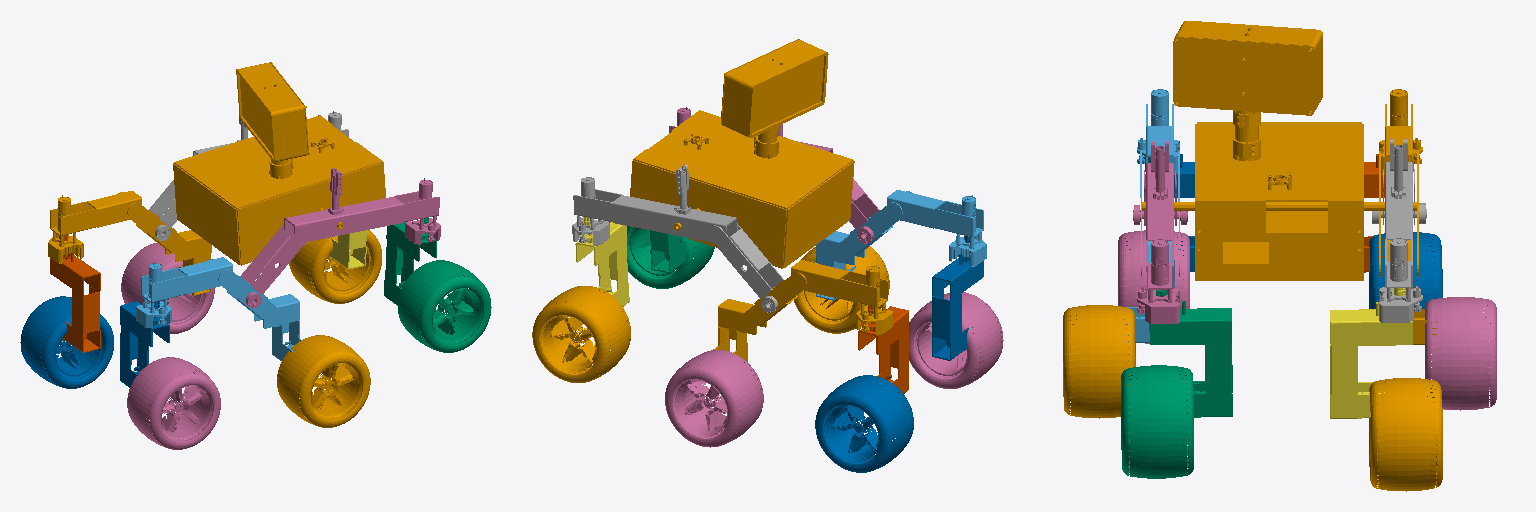
--- What the picture shows (computed from the rendered views, not written in the file) ---
3 views of the same robot in one strip: view 1: azimuth 30°, elevation 25°; view 2: azimuth 150°, elevation 25°; view 3: azimuth 270°, elevation 25° (orthographic).
Model rover_description with 26 links and 25 joints (14 continuous, 11 fixed), rooted at body, posed all joints at 0.
Links seen in each view (by area): view 1: body, rocker_left, wheel_lb, wheel_lm, wheel_lf, bogie_left, bogie_right, wheel_rf, wheel_rb, corner_rf, wheel_rm, corner_lf (+3 smaller); view 2: body, rocker_right, wheel_rm, wheel_rf, wheel_rb, bogie_right, bogie_left, wheel_lf, corner_lf, wheel_lb, wheel_lm, corner_rb (+3 smaller); view 3: body, wheel_rb, wheel_lb, wheel_rm, wheel_lm, rocker_left, rocker_right, corner_rb, corner_lb, wheel_lf, bogie_right, bogie_left (+3 smaller).
Boxes of the visible links, x1=… form: body: x1=173, y1=62, x2=385, y2=265; rocker_left: x1=241, y1=167, x2=440, y2=307; wheel_lb: x1=398, y1=260, x2=491, y2=352; wheel_lm: x1=277, y1=335, x2=370, y2=427; wheel_lf: x1=127, y1=357, x2=220, y2=449; bogie_left: x1=136, y1=257, x2=309, y2=365; bogie_right: x1=48, y1=191, x2=211, y2=295; wheel_rf: x1=20, y1=296, x2=113, y2=388; wheel_rb: x1=289, y1=230, x2=381, y2=303; corner_rf: x1=50, y1=235, x2=100, y2=352; wheel_rm: x1=121, y1=243, x2=214, y2=333; corner_lf: x1=120, y1=301, x2=169, y2=387; body: x1=630, y1=39, x2=854, y2=268; rocker_right: x1=572, y1=164, x2=783, y2=312; wheel_rm: x1=665, y1=350, x2=763, y2=447; wheel_rf: x1=815, y1=375, x2=913, y2=472; wheel_rb: x1=532, y1=286, x2=630, y2=382; bogie_right: x1=713, y1=260, x2=892, y2=361; bogie_left: x1=816, y1=190, x2=986, y2=300; wheel_lf: x1=909, y1=292, x2=1003, y2=388; corner_lf: x1=932, y1=236, x2=983, y2=360; wheel_lb: x1=627, y1=226, x2=714, y2=288; wheel_lm: x1=794, y1=246, x2=889, y2=333; corner_rb: x1=575, y1=217, x2=629, y2=306; body: x1=1142, y1=21, x2=1416, y2=280; wheel_rb: x1=1369, y1=378, x2=1442, y2=491; wheel_lb: x1=1121, y1=365, x2=1193, y2=478; wheel_rm: x1=1425, y1=297, x2=1496, y2=410; wheel_lm: x1=1063, y1=305, x2=1135, y2=418; rocker_left: x1=1133, y1=141, x2=1187, y2=323; rocker_right: x1=1372, y1=139, x2=1426, y2=322; corner_rb: x1=1330, y1=288, x2=1412, y2=418; corner_lb: x1=1149, y1=289, x2=1232, y2=417; wheel_lf: x1=1118, y1=230, x2=1189, y2=343; bogie_right: x1=1379, y1=89, x2=1437, y2=344; bogie_left: x1=1123, y1=89, x2=1179, y2=342.
Size in the robot's own frame: 0.7507 by 0.6001 by 0.6125 metres.
Meshes: 15 distinct files referenced, 15 mesh visuals loaded (15 Collada DAE).

URDF robot description (rover_description):
<?xml version="1.0" ?>
<robot name="rover_description">
<!-- xmlns:xacro="http://ros.org/wiki/xacro" -->
  <!-- All joints except wheels should be revolute eventually with limits put in, instead
  of continous joints -->

  <!-- Body -->
  <link name="body">
    <inertial>
      <mass value="2.90211432884294"/>
      <origin rpy="0  0  0" xyz="0  0  0"/>
      <inertia ixx="0.0449848823959673" ixy="0.00479068637492494" ixz="0.00169663977998625" iyy="0.036095517853809" iyz="0.00496816410158067" izz="0.0468326609946258"/>
    </inertial>
    <collision name="body_collision">
      <origin rpy="1.57079 -0.0741   0" xyz="0.06131  0.25841 -0.36404"/>
      <geometry>
        <mesh filename="package://rover_description/meshes/body.STL" scale="1 1 1"/>
      </geometry>
    </collision>
    <visual name="body_visual">
      <origin rpy="1.57079 -0.0741   0" xyz="0.06131  0.25841 -0.36404"/>
      <geometry>
        <mesh filename="package://rover_description/meshes/body.dae" scale="1 1 1"/>
      </geometry>
    </visual>
  </link>
  <gazebo reference="body">
  <!-- contact sensor -->
    <sensor type="contact" name="body_contact_sensor">
      <update_rate>30.0</update_rate>
      <always_on>1</always_on>
      <contact>
        <collision>body_collision_collision</collision>
        <topic>/bumper_contact</topic>
      </contact>
      <plugin name="gazebo_ros_bumper_controller" filename="libgazebo_ros_bumper.so">
          <alwaysOn>true</alwaysOn>
          <updateRate>3.0</updateRate>
          <bumperTopicName>/robot_bumper</bumperTopicName>
          <frameName>body</frameName>
      </plugin>
    </sensor>
  </gazebo>

  <!-- LIDAR -->
  <link name="base_scan">
    <!--<visual>
      <origin xyz="-.075 0.03 -.075" rpy="0 -0.275 0"/>
      <geometry>
        <mesh filename="package://rover_description/meshes/lds.stl" scale="0.001 0.001 0.001"/>
      </geometry>
      <material name="dark"/>
    </visual>
    <collision>
      <origin xyz="0.05 0.03 -0.5125" rpy="0 0 0"/>
      <geometry>
        <cylinder length="0.0315" radius="0.055"/>
      </geometry>
    </collision>
    <inertial>
      <mass value="0.114" />
      <origin xyz="0 0 0" />
      <inertia ixx="0.001" ixy="0.0" ixz="0.0"
               iyy="0.001" iyz="0.0"
               izz="0.001" />
    </inertial>-->
  </link>
  <joint name="scan_joint" type="fixed">
    <parent link="body"/>
    <child link="base_scan"/>
    <origin xyz="-.075 0.03 -.075" rpy="0 -0.275 0"/>
  </joint>
  <gazebo reference="base_scan">
    <sensor type="ray" name="lds_lfcd_sensor">
      <pose>0 0 0 0 0 0</pose>
      <visualize>false</visualize>
      <update_rate>5</update_rate>
      <ray>
        <scan>
          <horizontal>
            <samples>360</samples>
            <resolution>1</resolution>
            <min_angle>-90</min_angle>
            <max_angle>90</max_angle>
          </horizontal>
        </scan>
        <range>
          <min>0.45</min>
          <max>4.5</max>
          <resolution>0.015</resolution>
        </range>
        <noise>
          <type>gaussian</type>
          <mean>0.0</mean>
          <stddev>0.01</stddev>
        </noise>
      </ray>
      <plugin name="gazebo_ros_lds_lfcd_controller" filename="libgazebo_ros_laser.so">
        <topicName>scan</topicName>
        <frameName>base_scan</frameName>
      </plugin>
    </sensor>
  </gazebo>

  <!-- Depth Camera -->
  <link name="depthcamera_link">
    <collision>
      <origin xyz="-0.01 0 0" rpy="0 0 0"/>
      <geometry>
        <box size="0.01 0.01 0.01"/>
      </geometry>
    </collision>
  </link>
  <joint name="depthcamera_joint" type="fixed">
    <axis xyz="0 0 0" />
    <origin xyz="-0.1 0 0" rpy="0 0 3.14"/>
    <parent link="body"/>
    <child link="depthcamera_link"/>
  </joint>
  <gazebo reference="depthcamera_link">
    <sensor name="depthcamera" type="depth">
      <update_rate>10.0</update_rate>
      <camera>
        <horizontal_fov>1.047198</horizontal_fov>
        <image>
          <width>640</width>
          <height>480</height>
          <format>R8G8B8</format>
        </image>
        <clip>
          <near>0.05</near>
          <far>3</far>
        </clip>
      </camera>
      <plugin name="depthcamera_controller" filename="libgazebo_ros_openni_kinect.so">
        <baseline>0.2</baseline>
        <alwaysOn>true</alwaysOn>
        <updateRate>1.0</updateRate>
        <cameraName>depthcamera</cameraName>
        <imageTopicName>/depthcamera/depth/image_raw</imageTopicName>
        <cameraInfoTopicName>/depthcamera/depth/camera_info</cameraInfoTopicName>
        <depthImageTopicName>/depthcamera/depth/image_raw</depthImageTopicName>
        <depthImageInfoTopicName>/depthcamera/depth/camera_info</depthImageInfoTopicName>
        <pointCloudTopicName>/depthcamera/depth/points</pointCloudTopicName>
        <frameName>pointcloud_link</frameName>
        <pointCloudCutoff>0.5</pointCloudCutoff>
        <pointCloudCutoffMax>3.0</pointCloudCutoffMax>
        <distortionK1>0.00000001</distortionK1>
        <distortionK2>0.00000001</distortionK2>
        <distortionK3>0.00000001</distortionK3>
        <distortionT1>0.00000001</distortionT1>
        <distortionT2>0.00000001</distortionT2>
        <CxPrime>0</CxPrime>
        <Cx>0</Cx>
        <Cy>0</Cy>
        <focalLength>0</focalLength>
        <hackBaseline>0</hackBaseline>
      </plugin>
    </sensor>
  </gazebo>

  <!-- Point Cloud -->
  <link name="pointcloud_link"/>
  <joint name="pointcloud_joint" type="fixed">
    <axis xyz="0 0 0" />
    <origin xyz="-0.1 0 0" rpy="-1.58 0 -1.58"/>
    <parent link="depthcamera_link"/>
    <child link="pointcloud_link"/>
  </joint>

  <!-- Camera -->
  <link name="camera_link">
    <collision>
      <origin xyz="-0.01 0 0" rpy="0 0 3.14"/>
      <geometry>
        <box size="0.01 0.01 0.01"/>
      </geometry>
    </collision>
  </link>
  <joint name="camera_joint" type="fixed">
    <axis xyz="0 1 0" />
    <origin xyz="-0.1 0 0" rpy="0 0 3.14"/>
    <parent link="body"/>
    <child link="camera_link"/>
  </joint>
  <gazebo reference="camera_link">
    <sensor type="camera" name="camera1">
      <update_rate>30.0</update_rate>
      <camera name="head">
        <horizontal_fov>1.30</horizontal_fov>
        <image>
          <width>360</width>
          <height>240</height>
          <format>R8G8B8</format>
        </image>
        <clip>
          <near>0.02</near>
          <far>300</far>
        </clip>
        <noise>
          <type>gaussian</type>
          <!-- Noise is sampled independently per pixel on each frame.
               That pixel's noise value is added to each of its color
               channels, which at that point lie in the range [0,1]. -->
          <mean>0.0</mean>
          <stddev>0.007</stddev>
        </noise>
      </camera>
      <plugin name="camera_controller" filename="libgazebo_ros_camera.so">
        <alwaysOn>true</alwaysOn>
        <updateRate>0.0</updateRate>
        <cameraName>camera</cameraName>
        <imageTopicName>image_raw</imageTopicName>
        <cameraInfoTopicName>camera_info</cameraInfoTopicName>
        <frameName>camera_link</frameName>
        <hackBaseline>0.07</hackBaseline>
        <distortionK1>0.0</distortionK1>
        <distortionK2>0.0</distortionK2>
        <distortionK3>0.0</distortionK3>
        <distortionT1>0.0</distortionT1>
        <distortionT2>0.0</distortionT2>
      </plugin>
    </sensor>
  </gazebo>

  <!-- IMU -->
  <link name="imu_link"/>
  <joint name="imu_joint" type="fixed">
    <parent link="body"/>
    <child link="imu_link"/>
    <origin xyz="-0.032 0 0.068" rpy="0 0 3.14"/>
  </joint>
  <gazebo reference="imu_link">
    <sensor type="imu" name="imu">
      <always_on>true</always_on>
    </sensor>
  </gazebo>

  <!-- Body - Rocker Joints  -->
  <!-- Both of the joints from body to the rocker are currently locked, to be replaced
  eventually with accel position controlled revolute joints -->
  <link name="rocker_left">
    <inertial>
      <mass value="0.537822360381466"/>
      <origin rpy="0  0  0" xyz="0  0  0"/>
      <inertia ixx="0.000926946219362228" ixy="0.000154689420267511" ixz="1.88012800941391E-05" iyy="0.0101156034157955" iyz="5.30969443231385E-06" izz="0.0107753595914698"/>
    </inertial>
    <collision name="rocker_left_collision">
      <origin rpy="-3.13761 -1.57079  3.14159" xyz="0.42337 -0.05944  0.05707"/>
      <geometry>
        <mesh filename="package://rover_description/meshes/rocker_left.STL" scale="1 1 1"/>
      </geometry>
    </collision>
    <visual name="rocker_left_visual">
      <origin rpy="-3.13761 -1.57079  3.14159" xyz="0.42337 -0.05944  0.05707"/>
      <geometry>
        <mesh filename="package://rover_description/meshes/rocker_left.dae" scale="1 1 1"/>
      </geometry>
    </visual>
  </link>
  <joint name="body_rocker_left" type="continuous">
    <parent link="body"/>
    <child link="rocker_left"/>
    <origin rpy="1.49669  0 1.57079" xyz="0 -0.16496 -0.30899"/>
    <axis xyz="0  1  0"/>
    <limit effort="1.0" lower="0.0" upper="0.0" velocity="0.0"/>
  </joint>
  <transmission name="tran_body_rocker_left">
    <type>transmission_interface/SimpleTransmission</type>
    <joint name="body_rocker_left">
      <hardwareInterface>hardware_interface/EffortJointInterface</hardwareInterface>
    </joint>
    <actuator name="motor_body_rocker_left">
      <hardwareInterface>hardware_interface/EffortJointInterface</hardwareInterface>
      <mechanicalReduction>1</mechanicalReduction>
    </actuator>
  </transmission>
  <gazebo reference="rocker_left">
  <!-- contact sensor -->
    <sensor type="contact" name="rocker_left_contact_sensor">
      <update_rate>30.0</update_rate>
      <always_on>1</always_on>
      <contact>
        <collision>rocker_left_collision_collision</collision>
        <topic>/bumper_contact</topic>
      </contact>
      <plugin name="gazebo_ros_bumper_controller" filename="libgazebo_ros_bumper.so">
          <alwaysOn>true</alwaysOn>
          <updateRate>3.0</updateRate>
          <bumperTopicName>/robot_bumper</bumperTopicName>
          <frameName>rocker_left</frameName>
      </plugin>
    </sensor>
  </gazebo>

  <link name="rocker_right">
    <inertial>
      <mass value="0.526238554618689"/>
      <origin rpy="0  0  0" xyz="0  0  0"/>
      <inertia ixx="0.000919588633616726" ixy="0.000157243014711518" ixz="1.51548266970927E-05" iyy="0.00982887921832842" iyz="5.68327172250142E-06" izz="0.01048548744125"/>
    </inertial>
    <collision name="rocker_right_collision">
      <origin rpy="0  0  0" xyz="0.05707 -0.05944 -0.0935"/>
      <geometry>
        <mesh filename="package://rover_description/meshes/rocker_right.STL" scale="1 1 1"/>
      </geometry>
    </collision>
    <visual name="rocker_right_visual">
      <origin rpy="0  0  0" xyz="0.05707 -0.05944 -0.0935"/>
      <geometry>
        <mesh filename="package://rover_description/meshes/rocker_right.dae" scale="1 1 1"/>
      </geometry>
    </visual>
  </link>
  <joint name="body_rocker_right" type="continuous">
    <parent link="body"/>
    <child link="rocker_right"/>
    <origin rpy="1.57079 -0.0741   0" xyz="0       0.1649  -0.30899"/>
    <axis xyz="0  0  -1"/>
    <limit effort="1.0" lower="0.0" upper="0.0" velocity="0.0"/>
  </joint>
  <transmission name="tran_body_rocker_right">
  <type>transmission_interface/SimpleTransmission</type>
    <joint name="body_rocker_right">
      <hardwareInterface>hardware_interface/EffortJointInterface</hardwareInterface>
    </joint>
    <actuator name="motor_body_rocker_right">
      <hardwareInterface>hardware_interface/EffortJointInterface</hardwareInterface>
      <mechanicalReduction>1</mechanicalReduction>
    </actuator>
  </transmission>
  <gazebo reference="rocker_right">
  <!-- contact sensor -->
    <sensor type="contact" name="rocker_right_contact_sensor">
      <update_rate>30.0</update_rate>
      <always_on>1</always_on>
      <contact>
        <collision>rocker_right_collision_collision</collision>
        <topic>/bumper_contact</topic>
      </contact>
      <plugin name="gazebo_ros_bumper_controller" filename="libgazebo_ros_bumper.so">
          <alwaysOn>true</alwaysOn>
          <updateRate>3.0</updateRate>
          <bumperTopicName>/robot_bumper</bumperTopicName>
          <frameName>rocker_right</frameName>
      </plugin>
    </sensor>
  </gazebo>

  <!-- Rocker - Bogie Joints -->
  <link name="bogie_right">
    <inertial>
      <mass value="0.621260139018214"/>
      <origin rpy="0  0  0" xyz="0  0  0"/>
      <inertia ixx="0.00453008397919647" ixy="0.00490350467843443" ixz="0.000635833755568301" iyy="0.00836086403351998" iyz="0.000607789161715965" izz="0.0121912838568506"/>
    </inertial>
    <collision name="bogie_right_collision">
      <origin rpy="0  0  0" xyz="0.25249  0.02578 -0.0854"/>
      <geometry>
        <mesh filename="package://rover_description/meshes/bogie_right.STL" scale="1 1 1"/>
      </geometry>
    </collision>
    <visual name="bogie_right_visual">
      <origin rpy="0  0  0" xyz="0.25249  0.02578 -0.0854"/>
      <geometry>
        <mesh filename="package://rover_description/meshes/bogie_right.dae" scale="1 1 1"/>
      </geometry>
    </visual>
  </link>
  <joint name="rocker_right_bogie_right" type="continuous">
    <parent link="rocker_right"/>
    <child link="bogie_right"/>
    <origin rpy="0  0  0" xyz="-0.19542 -0.08523 -0.0081"/>
    <axis xyz="0  0  1"/>
    <limit effort="1.0" lower="0.0" upper="0.0" velocity="0.0"/>
  </joint>
  <transmission name="tran_rocker_right_bogie_right">
  <type>transmission_interface/SimpleTransmission</type>
    <joint name="rocker_right_bogie_right">
      <hardwareInterface>hardware_interface/EffortJointInterface</hardwareInterface>
    </joint>
    <actuator name="motor_rocker_right_bogie_right">
      <hardwareInterface>hardware_interface/EffortJointInterface</hardwareInterface>
      <mechanicalReduction>1</mechanicalReduction>
    </actuator>
  </transmission>
  <gazebo reference="bogie_right">
  <!-- contact sensor -->
    <sensor type="contact" name="bogie_right_contact_sensor">
      <update_rate>30.0</update_rate>
      <always_on>1</always_on>
      <contact>
        <collision>bogie_right_collision_collision</collision>
        <topic>/bumper_contact</topic>
      </contact>
      <plugin name="gazebo_ros_bumper_controller" filename="libgazebo_ros_bumper.so">
          <alwaysOn>true</alwaysOn>
          <updateRate>3.0</updateRate>
          <bumperTopicName>/robot_bumper</bumperTopicName>
          <frameName>bogie_right</frameName>
      </plugin>
    </sensor>
  </gazebo>

  <link name="bogie_left">
    <inertial>
      <mass value="0.621260123725714"/>
      <origin rpy="0  0  0" xyz="0  0  0"/>
      <inertia ixx="0.00448582964435196" ixy="0.00477854316506496" ixz="0.000607059717079686" iyy="0.00810724571548189" iyz="0.000593845967857872" izz="0.0118998802046071"/>
    </inertial>
    <collision name="bogie_left_collision">
      <origin rpy="0  0  0" xyz="0.25249  0.02578 -0.43123"/>
      <geometry>
        <mesh filename="package://rover_description/meshes/bogie_left.STL" scale="1 1 1"/>
      </geometry>
    </collision>
    <visual name="bogie_left_visual">
      <origin rpy="0  0  0" xyz="0.25249  0.02578 -0.43123"/>
      <geometry>
        <mesh filename="package://rover_description/meshes/bogie_left.dae" scale="1 1 1"/>
      </geometry>
    </visual>
  </link>
  <joint name="rocker_left_bogie_left" type="continuous">
    <parent link="rocker_left"/>
    <child link="bogie_left"/>
    <origin rpy="-3.13761 -1.57079  3.14159" xyz="-0.00786 -0.08523 -0.19542"/>
    <axis xyz="0  0  1"/>
    <limit effort="1.0" lower="0.0" upper="0.0" velocity="0.0"/>
  </joint>
  <transmission name="tran_rocker_left_bogie_left">
  <type>transmission_interface/SimpleTransmission</type>
    <joint name="rocker_left_bogie_left">
      <hardwareInterface>hardware_interface/EffortJointInterface</hardwareInterface>
    </joint>
    <actuator name="motor_rocker_left_bogie_left">
      <hardwareInterface>hardware_interface/EffortJointInterface</hardwareInterface>
      <mechanicalReduction>1</mechanicalReduction>
    </actuator>
  </transmission>
  <gazebo reference="bogie_left">
  <!-- contact sensor -->
    <sensor type="contact" name="bogie_left_contact_sensor">
      <update_rate>30.0</update_rate>
      <always_on>1</always_on>
      <contact>
        <collision>bogie_left_collision_collision</collision>
        <topic>/bumper_contact</topic>
      </contact>
      <plugin name="gazebo_ros_bumper_controller" filename="libgazebo_ros_bumper.so">
          <alwaysOn>true</alwaysOn>
          <updateRate>3.0</updateRate>
          <bumperTopicName>/robot_bumper</bumperTopicName>
          <frameName>bogie_left</frameName>
      </plugin>
    </sensor>
  </gazebo>

  <!-- Corner Wheel Axles -->
  <link name="corner_lb">
    <inertial>
      <mass value="0.304192795804708"/>
      <origin rpy="0  0  0" xyz="0  0  0"/>
      <inertia ixx="0.00137497903125049" ixy="0.000122975014897575" ixz="1.73923564200588E-05" iyy="0.000373444568404697" iyz="0.000113334138690249" izz="0.00113647893801937"/>
    </inertial>
    <collision name="corner_lb_collision">
      <origin rpy="0  0  0" xyz="-0.11444  0.11112 -0.42351"/>
      <geometry>
        <mesh filename="package://rover_description/meshes/corner_lb.STL" scale="1 1 1"/>
      </geometry>
    </collision>
    <visual name="corner_lb_visual">
      <origin rpy="0  0  0" xyz="-0.11444  0.11112 -0.42351"/>
      <geometry>
        <mesh filename="package://rover_description/meshes/corner_lb.dae" scale="1 1 1"/>
      </geometry>
    </visual>
  </link>
  <joint name="rocker_left_corner_lb" type="continuous">
    <parent link="rocker_left"/>
    <child link="corner_lb"/>
    <origin rpy="-3.13761 -1.57079  3.14159" xyz="-1.30000000e-04  -1.70570000e-01   1.71510000e-01"/>
    <axis xyz="-0.11836 -0.99297  0"/>
    <limit effort="1.0" lower="0.0" upper="0.0" velocity="0.5"/>
  </joint>
  <transmission name="rocker_left_corner_lb">
  <type>transmission_interface/SimpleTransmission</type>
    <joint name="rocker_left_corner_lb">
      <hardwareInterface>hardware_interface/EffortJointInterface</hardwareInterface>
    </joint>
    <actuator name="rocker_left_corner_lb">
      <hardwareInterface>hardware_interface/EffortJointInterface</hardwareInterface>
      <mechanicalReduction>1</mechanicalReduction>
    </actuator>
  </transmission>
  <gazebo reference="corner_lb">
  <!-- contact sensor -->
    <sensor type="contact" name="corner_lb_contact_sensor">
      <update_rate>30.0</update_rate>
      <always_on>1</always_on>
      <contact>
        <collision>corner_lb_collision_collision</collision>
        <topic>/bumper_contact</topic>
      </contact>
      <plugin name="gazebo_ros_bumper_controller" filename="libgazebo_ros_bumper.so">
          <alwaysOn>true</alwaysOn>
          <updateRate>3.0</updateRate>
          <bumperTopicName>/robot_bumper</bumperTopicName>
          <frameName>corner_lb</frameName>
      </plugin>
    </sensor>
  </gazebo>

  <link name="corner_rb">
    <inertial>
      <mass value="0.304193014419549"/>
      <origin rpy="0  0  0" xyz="0  0  0"/>
      <inertia ixx="0.00137604856074308" ixy="0.000117918040254742" ixz="6.30848933323842E-06" iyy="0.000372223836966267" iyz="0.000114619641084986" izz="0.00113663144325077"/>
    </inertial>
    <collision name="corner_rb_collision">
      <origin rpy="0  0  0" xyz="-0.11436  0.11182 -0.09331"/>
      <geometry>
        <mesh filename="package://rover_description/meshes/corner_rb.STL" scale="1 1 1"/>
      </geometry>
    </collision>
    <visual name="corner_rb_visual">
      <origin rpy="0  0  0" xyz="-0.11436  0.11182 -0.09331"/>
      <geometry>
        <mesh filename="package://rover_description/meshes/corner_rb.dae" scale="1 1 1"/>
      </geometry>
    </visual>
  </link>
  <joint name="rocker_right_corner_rb" type="continuous">
    <parent link="rocker_right"/>
    <child link="corner_rb"/>
    <origin rpy="0  0  0" xyz="0.17143 -0.17127 -0.00019"/>
    <axis xyz="-0.11836 -0.99297  0"/>
    <limit effort="1.0" lower="0.0" upper="0.0" velocity="0.5"/>
  </joint>
  <transmission name="tran_rocker_right_corner_rb">
  <type>transmission_interface/SimpleTransmission</type>
    <joint name="rocker_right_corner_rb">
      <hardwareInterface>hardware_interface/EffortJointInterface</hardwareInterface>
    </joint>
    <actuator name="motor_rocker_right_corner_rb">
      <hardwareInterface>hardware_interface/EffortJointInterface</hardwareInterface>
      <mechanicalReduction>1</mechanicalReduction>
    </actuator>
  </transmission>
  <gazebo reference="corner_rb">
  <!-- contact sensor -->
    <sensor type="contact" name="corner_rb_contact_sensor">
      <update_rate>30.0</update_rate>
      <always_on>1</always_on>
      <contact>
        <collision>corner_rb_collision_collision</collision>
        <topic>/bumper_contact</topic>
      </contact>
      <plugin name="gazebo_ros_bumper_controller" filename="libgazebo_ros_bumper.so">
          <alwaysOn>true</alwaysOn>
          <updateRate>3.0</updateRate>
          <bumperTopicName>/robot_bumper</bumperTopicName>
          <frameName>corner_rb</frameName>
      </plugin>
    </sensor>
  </gazebo>

  <link name="corner_lf">
    <inertial>
      <mass value="0.30419279796899"/>
      <origin rpy="0  0  0" xyz="0  0  0"/>
      <inertia ixx="0.00138425201204908" ixy="7.62004903383712E-05" ixz="8.45009232315926E-06" iyy="0.000364230221103759" iyz="0.000114298464981525" izz="0.00113642031217947"/>
    </inertial>
    <collision name="corner_lf_collision">
      <origin rpy="0  0  0" xyz="0.44631  0.10755 -0.42351"/>
      <geometry>
        <mesh filename="package://rover_description/meshes/corner_lf.STL" scale="1 1 1"/>
      </geometry>
    </collision>
    <visual name="corner_lf_visual">
      <origin rpy="0  0  0" xyz="0.44631  0.10755 -0.42351"/>
      <geometry>
        <mesh filename="package://rover_description/meshes/corner_lf.dae" scale="1 1 1"/>
      </geometry>
    </visual>
  </link>
  <joint name="bogie_left_corner_lf" type="continuous">
    <parent link="bogie_left"/>
    <child link="corner_lf"/>
    <origin rpy="0  0  0" xyz="-0.19381 -0.08177 -0.00772"/>
    <axis xyz="-0.07403 -0.99725  0"/>
    <limit effort="1.0" lower="0.0" upper="0.0" velocity="0.5"/>
  </joint>
  <transmission name="tran_bogie_left_corner_lf">
  <type>transmission_interface/SimpleTransmission</type>
    <joint name="bogie_left_corner_lf">
      <hardwareInterface>hardware_interface/EffortJointInterface</hardwareInterface>
    </joint>
    <actuator name="motor_bogie_left_corner_lf">
      <hardwareInterface>hardware_interface/EffortJointInterface</hardwareInterface>
      <mechanicalReduction>1</mechanicalReduction>
    </actuator>
  </transmission>
  <gazebo reference="corner_lf">
  <!-- contact sensor -->
    <sensor type="contact" name="corner_lf_contact_sensor">
      <update_rate>30.0</update_rate>
      <always_on>1</always_on>
      <contact>
        <collision>corner_lf_collision_collision</collision>
        <topic>/bumper_contact</topic>
      </contact>
      <plugin name="gazebo_ros_bumper_controller" filename="libgazebo_ros_bumper.so">
          <alwaysOn>true</alwaysOn>
          <updateRate>3.0</updateRate>
          <bumperTopicName>/robot_bumper</bumperTopicName>
          <frameName>corner_lf</frameName>
      </plugin>
    </sensor>
  </gazebo>

  <link name="corner_rf">
    <inertial>
      <mass value="0.304192937405648"/>
      <origin rpy="0  0  0" xyz="0  0  0"/>
      <inertia ixx="0.00138454085524249" ixy="7.30921983173066E-05" ixz="1.85037600771367E-06" iyy="0.000363767178107023" iyz="0.000114746905570395" izz="0.00113659514671257"/>
    </inertial>
    <collision name="corner_rf_collision">
      <origin rpy="0  0  0" xyz="0.44631  0.10755 -0.09331"/>
      <geometry>
        <mesh filename="package://rover_description/meshes/corner_rf.STL" scale="1 1 1"/>
      </geometry>
    </collision>
    <visual name="corner_rf_visual">
      <origin rpy="0  0  0" xyz="0.44631  0.10755 -0.09331"/>
      <geometry>
        <mesh filename="package://rover_description/meshes/corner_rf.dae" scale="1 1 1"/>
      </geometry>
    </visual>
  </link>
  <joint name="bogie_right_corner_rf" type="continuous">
    <parent link="bogie_right"/>
    <child link="corner_rf"/>
    <origin rpy="0  0  0" xyz="-0.19381 -0.08177  0.00791"/>
    <axis xyz="-0.07403 -0.99725  0"/>
    <limit effort="1.0" lower="0.0" upper="0.0" velocity="0.5"/>
  </joint>
  <transmission name="tran_bogie_right_corner_rf">
  <type>transmission_interface/SimpleTransmission</type>
    <joint name="bogie_right_corner_rf">
      <hardwareInterface>hardware_interface/EffortJointInterface</hardwareInterface>
    </joint>
    <actuator name="motor_bogie_right_corner_rf">
      <hardwareInterface>hardware_interface/EffortJointInterface</hardwareInterface>
      <mechanicalReduction>1</mechanicalReduction>
    </actuator>
  </transmission>
  <gazebo reference="corner_rf">
  <!-- contact sensor -->
    <sensor type="contact" name="corner_rf_contact_sensor">
      <update_rate>30.0</update_rate>
      <always_on>1</always_on>
      <contact>
        <collision>corner_rf_collision_collision</collision>
        <topic>/bumper_contact</topic>
      </contact>
      <plugin name="gazebo_ros_bumper_controller" filename="libgazebo_ros_bumper.so">
          <alwaysOn>true</alwaysOn>
          <updateRate>3.0</updateRate>
          <bumperTopicName>/robot_bumper</bumperTopicName>
          <frameName>corner_rf</frameName>
      </plugin>
    </sensor>
  </gazebo>


  <!-- Wheels & Wheel Joints -->
  <!-- ********************* -->
  <!-- Left Front -->
  <link name="wheel_lf">
    <inertial>
      <mass value="1.36814541772104"/>
      <origin rpy="0  0  0" xyz="0  0  0"/>
      <inertia ixx="0.00366757842706366" ixy="5.85720342850908E-08" ixz="2.50671787696599E-08" iyy="0.00366756055024513" iyz="1.97671629579764E-08" izz="0.00544768606338861"/>
    </inertial>
    <collision name="wheel_lf_collision">
      <origin rpy="0  0  0" xyz="0.41838  0.19698 -0.43356"/>
      <geometry>
        <mesh filename="package://rover_description/meshes/wheel_lf.STL" scale="1 1 1"/>
      </geometry>
    </collision>
    <visual name="wheel_lf_visual">
      <origin rpy="0  0  0" xyz="0.41838  0.19698 -0.43356"/>
      <geometry>
        <mesh filename="package://rover_description/meshes/wheel_lf.dae" scale="1 1 1"/>
      </geometry>
    </visual>
  </link>
  <joint name="corner_lf_wheel_lf" type="continuous">
    <parent link="corner_lf"/>
    <child link="wheel_lf"/>
    <origin rpy="0  0  0" xyz="0.02792 -0.08943  0.01005"/>
    <axis xyz="0  0  1"/>
    <limit effort="1.0" lower="0.0" upper="0.0" velocity="0.0"/>
  </joint>
  <transmission name="tran_corner_lf_wheel_lf">
  <type>transmission_interface/SimpleTransmission</type>
    <joint name="corner_lf_wheel_lf">
      <hardwareInterface>hardware_interface/EffortJointInterface</hardwareInterface>
    </joint>
    <actuator name="motor_corner_lf_wheel_lf">
      <hardwareInterface>hardware_interface/EffortJointInterface</hardwareInterface>
      <mechanicalReduction>1</mechanicalReduction>
    </actuator>
  </transmission>
  <link name="imu_wheel_lf_link"/>
  <joint name="imu_wheel_lf_joint" type="fixed">
    <parent link="corner_lf"/>
    <child link="imu_wheel_lf_link"/>
    <origin xyz="0.028 -0.089 0.01" rpy="-1.58 0 0"/>
  </joint>
  <gazebo reference="imu_wheel_lf_link">
    <sensor type="imu" name="imu">
      <always_on>true</always_on>
    </sensor>
  </gazebo>

  <!-- Left Middle -->
  <link name="wheel_lm">
    <inertial>
      <mass value="1.36814459544853"/>
      <origin rpy="0  0  0" xyz="0  0  0"/>
      <inertia ixx="0.00366760387180507" ixy="4.81810951683874E-08" ixz="1.99015719689065E-08" iyy="0.0036675347611647" iyz="2.50805190292173E-08" izz="0.00544768572107024"/>
    </inertial>
    <collision name="wheel_lm_collision">
      <origin rpy="0  0  0" xyz="0.14798  0.20486 -0.50951"/>
      <geometry>
        <mesh filename="package://rover_description/meshes/wheel_lm.STL" scale="1 1 1"/>
      </geometry>
    </collision>
    <visual name="wheel_lm_visual">
      <origin rpy="0  0  0" xyz="0.14798  0.20486 -0.50951"/>
      <geometry>
        <mesh filename="package://rover_description/meshes/wheel_lm.dae" scale="1 1 1"/>
      </geometry>
    </visual>
  </link>
  <joint name="bogie_left_wheel_lm" type="continuous">
    <parent link="bogie_left"/>
    <child link="wheel_lm"/>
    <origin rpy="0  0  0" xyz="0.10451 -0.17908  0.07827"/>
    <axis xyz="0  0  1"/>
    <limit effort="1.0" lower="0.0" upper="0.0" velocity="0.0"/>
  </joint>
  <transmission name="tran_bogie_left_wheel_lm">
  <type>transmission_interface/SimpleTransmission</type>
    <joint name="bogie_left_wheel_lm">
      <hardwareInterface>hardware_interface/EffortJointInterface</hardwareInterface>
    </joint>
    <actuator name="motor_bogie_left_wheel_lm">
      <hardwareInterface>hardware_interface/EffortJointInterface</hardwareInterface>
      <mechanicalReduction>1</mechanicalReduction>
    </actuator>
  </transmission>
  <link name="imu_wheel_lm_link"/>
  <joint name="imu_wheel_lm_joint" type="fixed">
    <parent link="bogie_left"/>
    <child link="imu_wheel_lm_link"/>
    <origin xyz="0.105 -0.179 0.078" rpy="-1.58 0 0"/>
  </joint>
  <gazebo reference="imu_wheel_lm_link">
    <sensor type="imu" name="imu">
      <always_on>true</always_on>
    </sensor>
  </gazebo>

  <!-- Left Back -->
  <link name="wheel_lb">
    <inertial>
      <mass value="1.36814584269008"/>
      <origin rpy="0  0  0" xyz="0  0  0"/>
      <inertia ixx="0.00366793735984657" ixy="1.26412034924647E-08" ixz="2.71592687297528E-05" iyy="0.00366762213892166" iyz="3.23854253381849E-06" izz="0.00544726588808494"/>
    </inertial>
    <collision name="wheel_lb_collision">
      <origin rpy="0  0  0" xyz="-0.15482  0.17979 -0.42848"/>
      <geometry>
        <mesh filename="package://rover_description/meshes/wheel_lb.STL" scale="1 1 1"/>
      </geometry>
    </collision>
    <visual name="wheel_lb_visual">
      <origin rpy="0  0  0" xyz="-0.15482  0.17979 -0.42848"/>
      <geometry>
        <mesh filename="package://rover_description/meshes/wheel_lb.dae" scale="1 1 1"/>
      </geometry>
    </visual>
  </link>
  <joint name="corner_lb_wheel_lb" type="continuous">
    <parent link="corner_lb"/>
    <child link="wheel_lb"/>
    <origin rpy="0  0  0" xyz="0.04037 -0.06867  0.00497"/>
    <axis xyz="0.01524 -0.00181  0.99988"/>
    <limit effort="1.0" lower="0.0" upper="0.0" velocity="0.0"/>
  </joint>
  <transmission name="tran_corner_lb_wheel_lb">
  <type>transmission_interface/SimpleTransmission</type>
    <joint name="corner_lb_wheel_lb">
      <hardwareInterface>hardware_interface/EffortJointInterface</hardwareInterface>
    </joint>
    <actuator name="motor_corner_lb_wheel_lb">
      <hardwareInterface>hardware_interface/EffortJointInterface</hardwareInterface>
      <mechanicalReduction>1</mechanicalReduction>
    </actuator>
  </transmission>
  <link name="imu_wheel_lb_link"/>
  <joint name="imu_wheel_lb_joint" type="fixed">
    <parent link="corner_lb"/>
    <child link="imu_wheel_lb_link"/>
    <origin xyz="0.04 -0.069 0.005" rpy="-1.58 0 0"/>
  </joint>
  <gazebo reference="imu_wheel_lb_link">
    <sensor type="imu" name="imu">
      <always_on>true</always_on>
    </sensor>
  </gazebo>

  <!-- Right Front -->
  <link name="wheel_rf">
    <inertial>
      <mass value="1.36814501281761"/>
      <origin rpy="0  0  0" xyz="0  0  0"/>
      <inertia ixx="0.00366885695412576" ixy="6.90349334971186E-08" ixz="4.68184360413593E-05" iyy="0.00366752077491027" iyz="3.4445797472734E-06" izz="0.00544644696887958"/>
    </inertial>
    <collision name="wheel_rf_collision">
      <origin rpy="0  0  0" xyz="0.44223  0.20838 -0.08295"/>
      <geometry>
        <mesh filename="package://rover_description/meshes/wheel_rf.STL" scale="1 1 1"/>
      </geometry>
    </collision>
    <visual name="wheel_rf_visual">
      <origin rpy="0  0  0" xyz="0.44223  0.20838 -0.08295"/>
      <geometry>
        <mesh filename="package://rover_description/meshes/wheel_rf.dae" scale="1 1 1"/>
      </geometry>
    </visual>
  </link>
  <joint name="corner_rf_wheel_rf" type="continuous">
    <parent link="corner_rf"/>
    <child link="wheel_rf"/>
    <origin rpy="0  0  0" xyz="0.00407 -0.10082 -0.01036"/>
    <axis xyz="-0.02631  0.00195 -0.99965"/>
    <limit effort="1.0" lower="0.0" upper="0.0" velocity="0.0"/>
  </joint>
  <transmission name="tran_corner_rf_wheel_rf">
  <type>transmission_interface/SimpleTransmission</type>
    <joint name="corner_rf_wheel_rf">
      <hardwareInterface>hardware_interface/EffortJointInterface</hardwareInterface>
    </joint>
    <actuator name="motor_corner_rf_wheel_rf">
      <hardwareInterface>hardware_interface/EffortJointInterface</hardwareInterface>
      <mechanicalReduction>1</mechanicalReduction>
    </actuator>
  </transmission>
  <link name="imu_wheel_rf_link"/>
  <joint name="imu_wheel_rf_joint" type="fixed">
    <parent link="corner_rf"/>
    <child link="imu_wheel_rf_link"/>
    <origin xyz="0 -0.1 0" rpy="-1.58 0 0"/>
  </joint>
  <gazebo reference="imu_wheel_rf_link">
    <sensor type="imu" name="imu">
      <always_on>true</always_on>
    </sensor>
  </gazebo>

  <!-- Right Middle -->
  <link name="wheel_rm">
    <inertial>
      <mass value="1.3681450052713"/>
      <origin rpy="0  0  0" xyz="0  0  0"/>
      <inertia ixx="0.00366761677810099" ixy="3.57127474371062E-08" ixz="1.5869179246557E-08" iyy="0.00366752202725405" iyz="2.77978556110377E-08" izz="0.00544768589231018"/>
    </inertial>
    <collision name="wheel_rm_collision">
      <origin rpy="0  0  0" xyz="0.18614  0.20777 -0.0068"/>
      <geometry>
        <mesh filename="package://rover_description/meshes/wheel_rm.STL" scale="1 1 1"/>
      </geometry>
    </collision>
    <visual name="wheel_rm_visual">
      <origin rpy="0  0  0" xyz="0.18614  0.20777 -0.0068"/>
      <geometry>
        <mesh filename="package://rover_description/meshes/wheel_rm.dae" scale="1 1 1"/>
      </geometry>
    </visual>
  </link>
  <joint name="bogie_right_wheel_rm" type="continuous">
    <parent link="bogie_right"/>
    <child link="wheel_rm"/>
    <origin rpy="0  0  0" xyz="0.06634 -0.18198 -0.07859"/>
    <axis xyz="0  0 -1"/>
    <limit effort="1.0" lower="0.0" upper="0.0" velocity="0.0"/>
  </joint>
  <transmission name="tran_bogie_right_wheel_rm">
  <type>transmission_interface/SimpleTransmission</type>
    <joint name="bogie_right_wheel_rm">
      <hardwareInterface>hardware_interface/EffortJointInterface</hardwareInterface>
    </joint>
    <actuator name="motor_bogie_right_wheel_rm">
      <hardwareInterface>hardware_interface/EffortJointInterface</hardwareInterface>
      <mechanicalReduction>1</mechanicalReduction>
    </actuator>
  </transmission>
  <link name="imu_wheel_rm_link"/>
  <joint name="imu_wheel_rm_joint" type="fixed">
    <parent link="bogie_right"/>
    <child link="imu_wheel_rm_link"/>
    <origin xyz="0.066 -0.182 -0.079" rpy="-1.58 0 0"/>
  </joint>
  <gazebo reference="imu_wheel_rm_link">
    <sensor type="imu" name="imu">
      <always_on>true</always_on>
    </sensor>
  </gazebo>

  <!-- Right Back -->
  <link name="wheel_rb">
    <inertial>
      <mass value="1.36814663300315"/>
      <origin rpy="0  0  0" xyz="0  0  0"/>
      <inertia ixx="0.00366908934944301" ixy="1.39874465141914E-07" ixz="5.11667280776428E-05" iyy="0.00366754321288305" iyz="6.06941934991221E-06" izz="0.00544619425577847"/>
    </inertial>
    <collision name="wheel_rb_collision">
      <origin rpy="0  0  0" xyz="-0.12196  0.21097 -0.08269"/>
      <geometry>
        <mesh filename="package://rover_description/meshes/wheel_rb.STL" scale="1 1 1"/>
      </geometry>
    </collision>
    <visual name="wheel_rb_visual">
      <origin rpy="0  0  0" xyz="-0.12196  0.21097 -0.08269"/>
      <geometry>
        <mesh filename="package://rover_description/meshes/wheel_rb.dae" scale="1 1 1"/>
      </geometry>
    </visual>
  </link>
  <joint name="corner_rb_wheel_rb" type="continuous">
    <parent link="corner_rb"/>
    <child link="wheel_rb"/>
    <origin rpy="0  0  0" xyz="0.0076  -0.09914 -0.01061"/>
    <axis xyz="-0.02875  0.00342 -0.99958"/>
    <limit effort="1.0" lower="0.0" upper="0.0" velocity="0.0"/>
  </joint>
  <transmission name="tran_corner_rb_wheel_rb">
  <type>transmission_interface/SimpleTransmission</type>
    <joint name="corner_rb_wheel_rb">
      <hardwareInterface>hardware_interface/EffortJointInterface</hardwareInterface>
    </joint>
    <actuator name="motor_corner_rb_wheel_rb">
      <hardwareInterface>hardware_interface/EffortJointInterface</hardwareInterface>
      <mechanicalReduction>1</mechanicalReduction>
    </actuator>
  </transmission>
  <link name="imu_wheel_rb_link"/>
  <joint name="imu_wheel_rb_joint" type="fixed">
    <parent link="corner_rb"/>
    <child link="imu_wheel_rb_link"/>
    <origin xyz="0 -0.1 0" rpy="-1.58 0 0"/>
  </joint>
  <gazebo reference="imu_wheel_rb_link">
    <sensor type="imu" name="imu">
      <always_on>true</always_on>
    </sensor>
  </gazebo>


  <!-- Plugins -->
  <!-- ****** -->
  
  <!-- ROS control plugin -->
  <gazebo>
   <plugin name="gazebo_ros_control" filename="libgazebo_ros_control.so">
     <robotNamespace>rover_ns</robotNamespace>
     <robotSimType>gazebo_ros_control/DefaultRobotHWSim</robotSimType>
     <legacyModeNS>true</legacyModeNS>
     <odometryTopic>odom</odometryTopic>
     <odometryFrame>odom</odometryFrame>
     <odometrySource>world</odometrySource>
     <publishOdomTF>true</publishOdomTF>
   </plugin>
  </gazebo>

  <!-- Groundtruth plugin -->
  <gazebo>
    <plugin name="robot_groundtruth_sim" filename="libgazebo_ros_p3d.so">
      <alwaysOn>true</alwaysOn>
      <updateRate>100.0</updateRate>
      <bodyName>body</bodyName>
      <topicName>odom</topicName>
      <frameName>world</frameName>
    </plugin>
  </gazebo>


  <gazebo>
    <plugin name="imu_plugin" filename="libgazebo_ros_imu.so">
      <alwaysOn>true</alwaysOn>
      <bodyName>body</bodyName>
      <frameName>imu_link</frameName>
      <topicName>imu</topicName>
      <serviceName>imu_service</serviceName>
      <gaussianNoise>0</gaussianNoise>
      <updateRate>30</updateRate>
      <imu>
        <noise>
          <type>gaussian</type>
          <rate>
            <mean>0.0</mean>
            <stddev>2e-4</stddev>
            <bias_mean>0.0000075</bias_mean>
            <bias_stddev>0.0000008</bias_stddev>
          </rate>
          <accel>
            <mean>0.0</mean>
            <stddev>1.7e-2</stddev>
            <bias_mean>0.1</bias_mean>
            <bias_stddev>0.001</bias_stddev>
          </accel>
        </noise>
      </imu>
    </plugin>
  </gazebo>

  <gazebo>
    <plugin name="imu_plugin" filename="libgazebo_ros_imu.so">
      <alwaysOn>true</alwaysOn>
      <bodyName>corner_lb</bodyName>
      <frameName>imu_wheel_lb_link</frameName>
      <topicName>imu/wheel_lb</topicName>
      <serviceName>imu_service</serviceName>
      <gaussianNoise>0</gaussianNoise>
      <updateRate>30</updateRate>
      <imu>
        <noise>
          <type>gaussian</type>
          <rate>
            <mean>0.0</mean>
            <stddev>2e-4</stddev>
            <bias_mean>0.0000075</bias_mean>
            <bias_stddev>0.0000008</bias_stddev>
          </rate>
          <accel>
            <mean>0.0</mean>
            <stddev>1.7e-2</stddev>
            <bias_mean>0.1</bias_mean>
            <bias_stddev>0.001</bias_stddev>
          </accel>
        </noise>
      </imu>
    </plugin>
  </gazebo>

  <gazebo>
    <plugin name="imu_plugin" filename="libgazebo_ros_imu.so">
      <alwaysOn>true</alwaysOn>
      <bodyName>corner_rb</bodyName>
      <frameName>imu_wheel_rb_link</frameName>
      <topicName>imu/wheel_rb</topicName>
      <serviceName>imu_service</serviceName>
      <gaussianNoise>0</gaussianNoise>
      <updateRate>30</updateRate>
      <imu>
        <noise>
          <type>gaussian</type>
          <rate>
            <mean>0.0</mean>
            <stddev>2e-4</stddev>
            <bias_mean>0.0000075</bias_mean>
            <bias_stddev>0.0000008</bias_stddev>
          </rate>
          <accel>
            <mean>0.0</mean>
            <stddev>1.7e-2</stddev>
            <bias_mean>0.1</bias_mean>
            <bias_stddev>0.001</bias_stddev>
          </accel>
        </noise>
      </imu>
    </plugin>
  </gazebo>

  <gazebo>
    <plugin name="imu_plugin" filename="libgazebo_ros_imu.so">
      <alwaysOn>true</alwaysOn>
      <bodyName>corner_lf</bodyName>
      <frameName>imu_wheel_lf_link</frameName>
      <topicName>imu/wheel_lf</topicName>
      <serviceName>imu_service</serviceName>
      <gaussianNoise>0</gaussianNoise>
      <updateRate>30</updateRate>
      <imu>
        <noise>
          <type>gaussian</type>
          <rate>
            <mean>0.0</mean>
            <stddev>2e-4</stddev>
            <bias_mean>0.0000075</bias_mean>
            <bias_stddev>0.0000008</bias_stddev>
          </rate>
          <accel>
            <mean>0.0</mean>
            <stddev>1.7e-2</stddev>
            <bias_mean>0.1</bias_mean>
            <bias_stddev>0.001</bias_stddev>
          </accel>
        </noise>
      </imu>
    </plugin>
  </gazebo>

  <gazebo>
    <plugin name="imu_plugin" filename="libgazebo_ros_imu.so">
      <alwaysOn>true</alwaysOn>
      <bodyName>corner_rf</bodyName>
      <frameName>imu_wheel_rf_link</frameName>
      <topicName>imu/wheel_rf</topicName>
      <serviceName>imu_service</serviceName>
      <gaussianNoise>0</gaussianNoise>
      <updateRate>30</updateRate>
      <imu>
        <noise>
          <type>gaussian</type>
          <rate>
            <mean>0.0</mean>
            <stddev>2e-4</stddev>
            <bias_mean>0.0000075</bias_mean>
            <bias_stddev>0.0000008</bias_stddev>
          </rate>
          <accel>
            <mean>0.0</mean>
            <stddev>1.7e-2</stddev>
            <bias_mean>0.1</bias_mean>
            <bias_stddev>0.001</bias_stddev>
          </accel>
        </noise>
      </imu>
    </plugin>
  </gazebo>

  <gazebo>
    <plugin name="imu_plugin" filename="libgazebo_ros_imu.so">
      <alwaysOn>true</alwaysOn>
      <bodyName>bogie_left</bodyName>
      <frameName>imu_wheel_lm_link</frameName>
      <topicName>imu/wheel_lm</topicName>
      <serviceName>imu_service</serviceName>
      <gaussianNoise>0</gaussianNoise>
      <updateRate>30</updateRate>
      <imu>
        <noise>
          <type>gaussian</type>
          <rate>
            <mean>0.0</mean>
            <stddev>2e-4</stddev>
            <bias_mean>0.0000075</bias_mean>
            <bias_stddev>0.0000008</bias_stddev>
          </rate>
          <accel>
            <mean>0.0</mean>
            <stddev>1.7e-2</stddev>
            <bias_mean>0.1</bias_mean>
            <bias_stddev>0.001</bias_stddev>
          </accel>
        </noise>
      </imu>
    </plugin>
  </gazebo>

  <gazebo>
    <plugin name="imu_plugin" filename="libgazebo_ros_imu.so">
      <alwaysOn>true</alwaysOn>
      <bodyName>bogie_right</bodyName>
      <frameName>imu_wheel_rm_link</frameName>
      <topicName>imu/wheel_rm</topicName>
      <serviceName>imu_service</serviceName>
      <gaussianNoise>0</gaussianNoise>
      <updateRate>30</updateRate>
      <imu>
        <noise>
          <type>gaussian</type>
          <rate>
            <mean>0.0</mean>
            <stddev>2e-4</stddev>
            <bias_mean>0.0000075</bias_mean>
            <bias_stddev>0.0000008</bias_stddev>
          </rate>
          <accel>
            <mean>0.0</mean>
            <stddev>1.7e-2</stddev>
            <bias_mean>0.1</bias_mean>
            <bias_stddev>0.001</bias_stddev>
          </accel>
        </noise>
      </imu>
    </plugin>
  </gazebo>

  
</robot>
